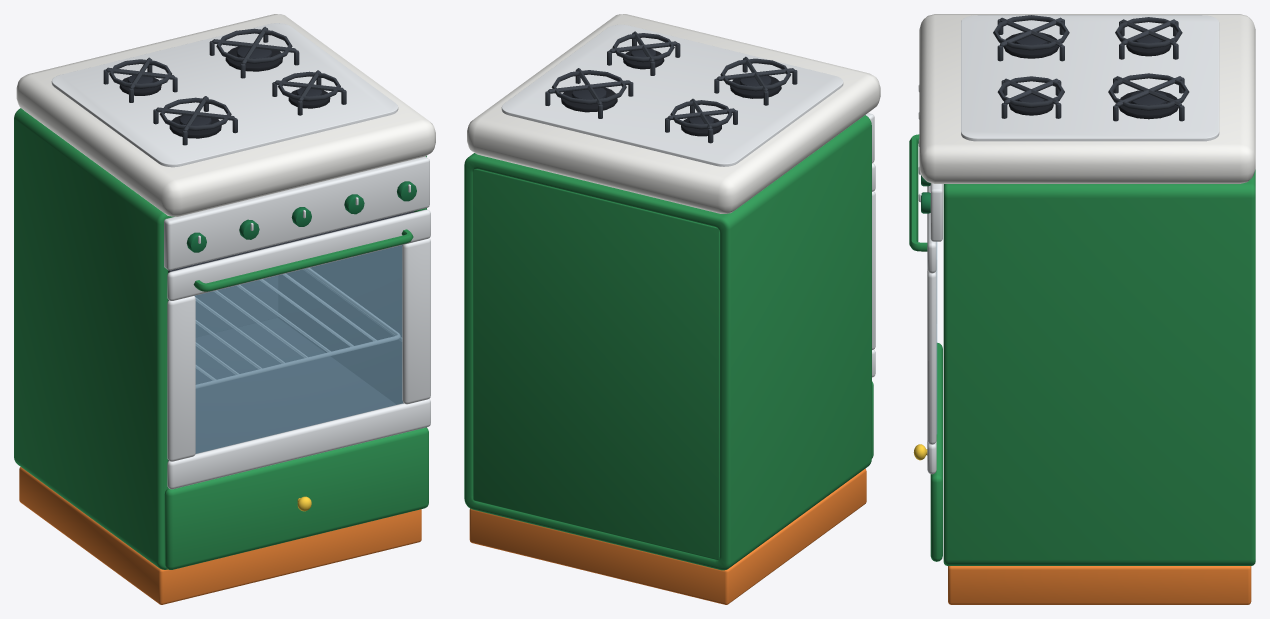
The model's file is fogao_modulo_verde.glb.
The picture shows the model from 3 angles, left to right: view 1: azimuth 30°, elevation 25°; view 2: azimuth 150°, elevation 25°; view 3: azimuth 270°, elevation 25°; orthographic projection. The views are drawn at different scales.
Parts seen in each view (by area): view 1: fogao_modulo_verde, porta_forno, gaveta_1; view 2: fogao_modulo_verde, porta_forno; view 3: fogao_modulo_verde, porta_forno, gaveta_1.
Part boxes in pixels (x1,y1,x2,y2): fogao_modulo_verde: (14, 14, 435, 604); porta_forno: (167, 209, 430, 489); gaveta_1: (164, 427, 428, 569); fogao_modulo_verde: (464, 14, 880, 604); porta_forno: (872, 163, 875, 377); fogao_modulo_verde: (918, 14, 1255, 604); porta_forno: (909, 134, 937, 474); gaveta_1: (913, 342, 942, 561).
Size of the model in its own units: 0.598 by 0.939 by 0.617.
Materials: 2 (1 with a texture image).
